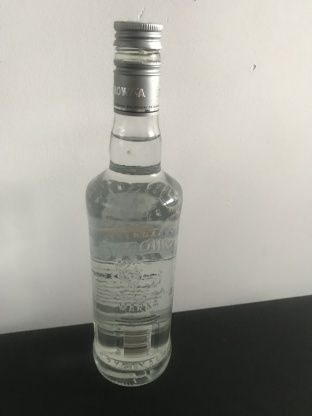nakretka: (111, 18, 164, 117)
